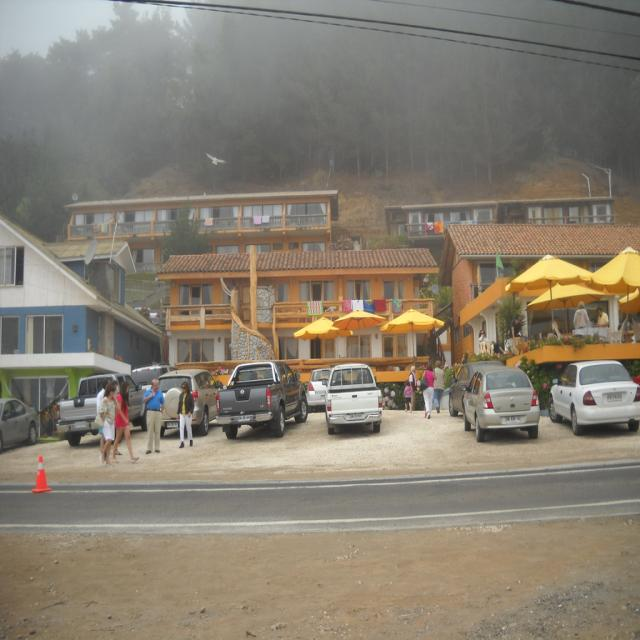car: (461, 366, 537, 442)
